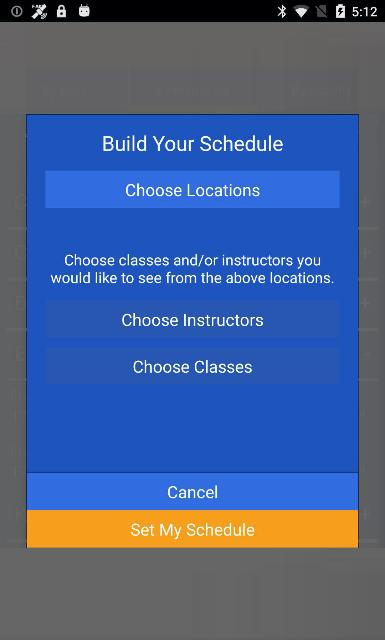Modal: (27, 115, 358, 547)
Text: (51, 254, 333, 284), (103, 135, 282, 151), (131, 522, 254, 540), (122, 312, 264, 326), (133, 359, 252, 373), (126, 184, 260, 196), (168, 486, 216, 498)
TextButton: (27, 510, 358, 548), (27, 472, 358, 510), (45, 300, 339, 338), (45, 170, 339, 208), (45, 348, 338, 384)
UpperTaskBar: (0, 0, 384, 22)
